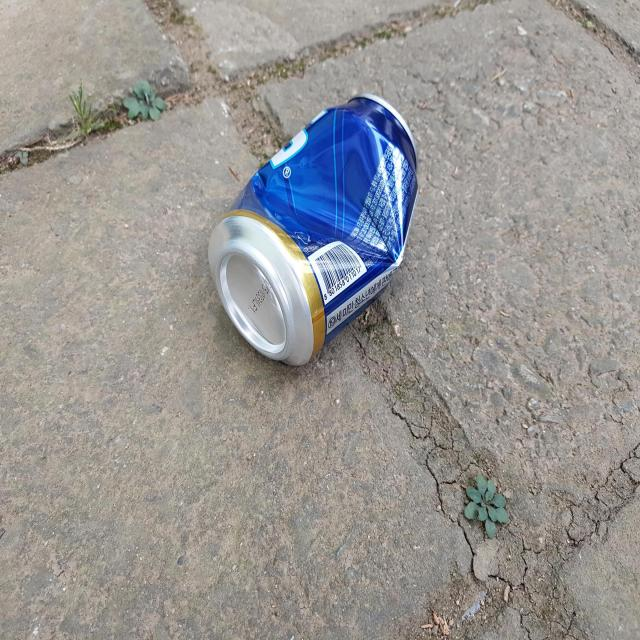can: (208, 93, 418, 365)
